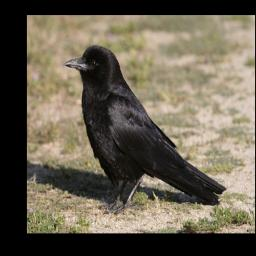Crow: (62, 44, 227, 215)
